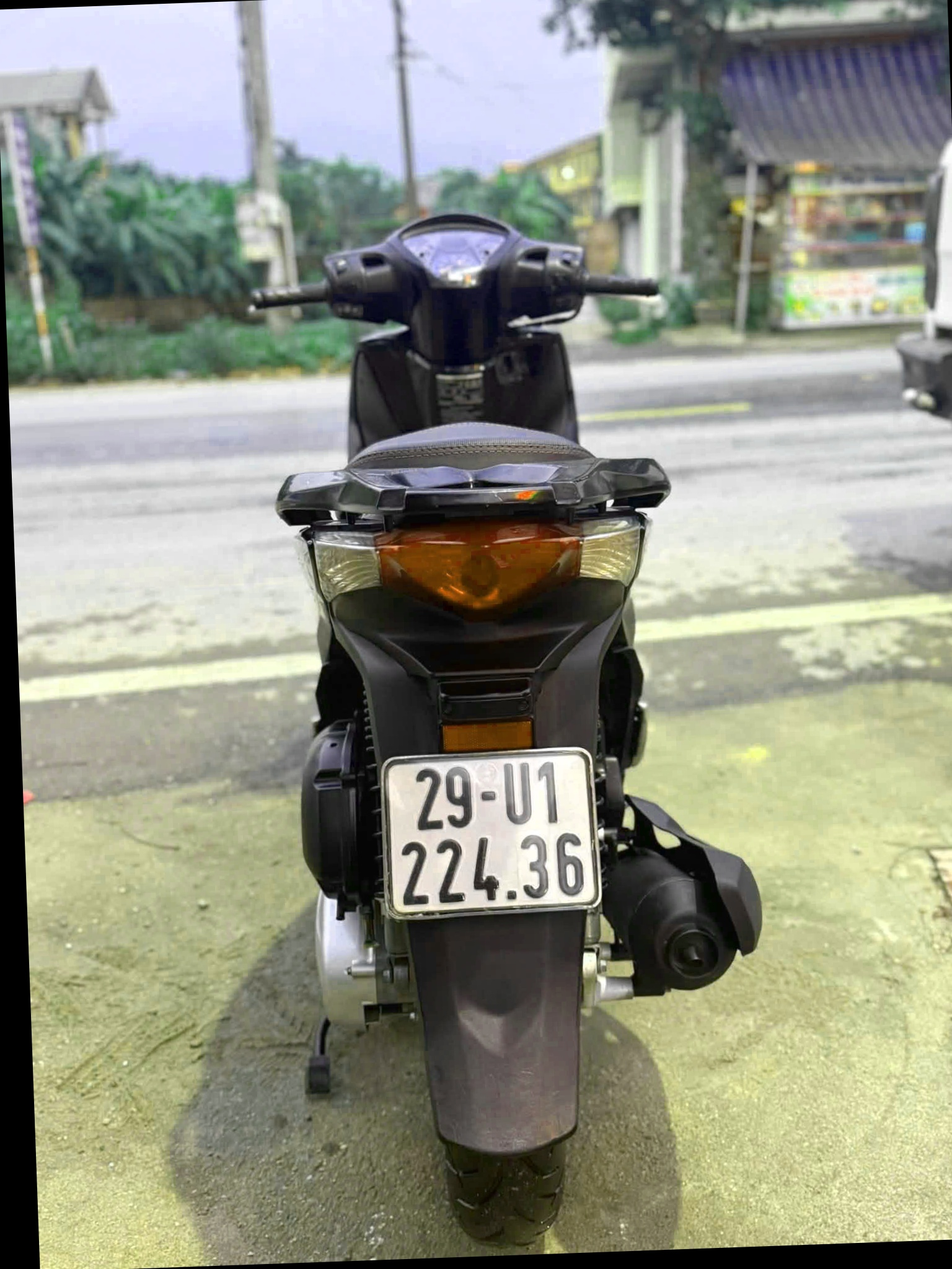Bien-so: (389, 742, 599, 919)
